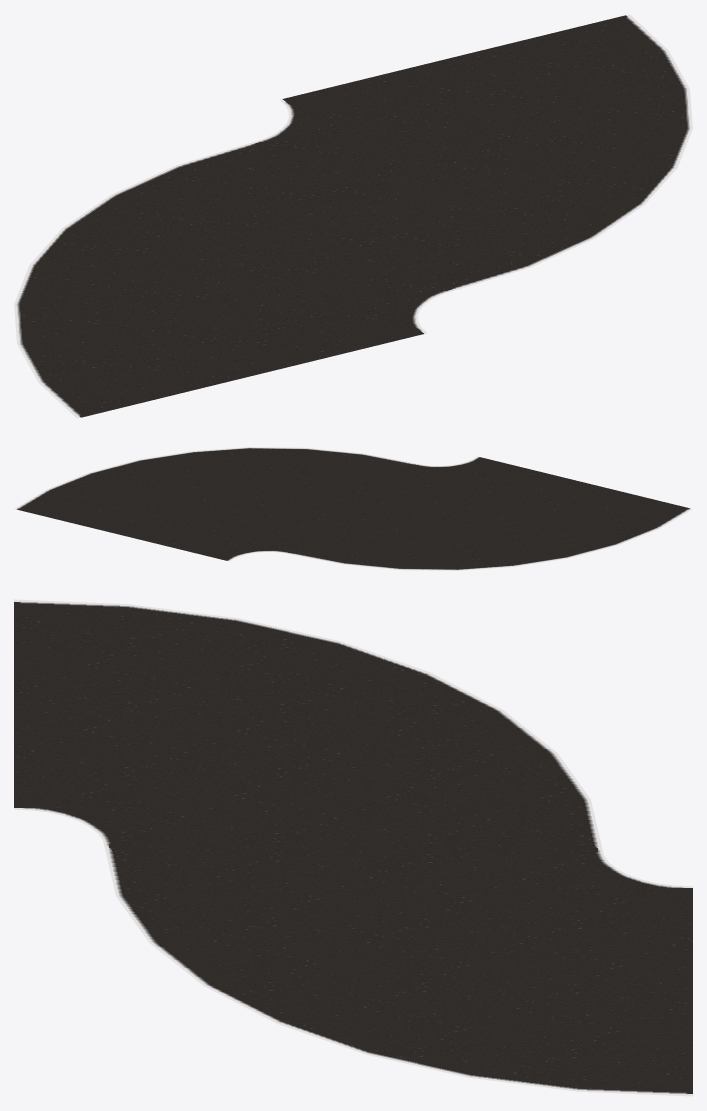
File: S-Turn.obj
3 renders of one model, top to bottom at view 1: azimuth 30°, elevation 25°; view 2: azimuth 150°, elevation 25°; view 3: azimuth 270°, elevation 25°, orthographic. The views are drawn at different scales.
Visible parts, largest first — view 1: S_Turn; view 2: S_Turn; view 3: S_Turn.
Part boxes in pixels (x1=…): S_Turn: x1=14, y1=14, x2=692, y2=418; S_Turn: x1=14, y1=447, x2=692, y2=570; S_Turn: x1=14, y1=599, x2=692, y2=1096.
Bounding box in the file's own units: 16.55 × 0 × 9.55.
